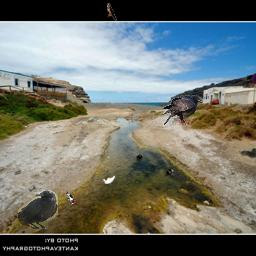Crow: (18, 190, 58, 229), (163, 95, 203, 125)
Swallow: (107, 3, 117, 21)
Woodpecker: (65, 190, 75, 205)
